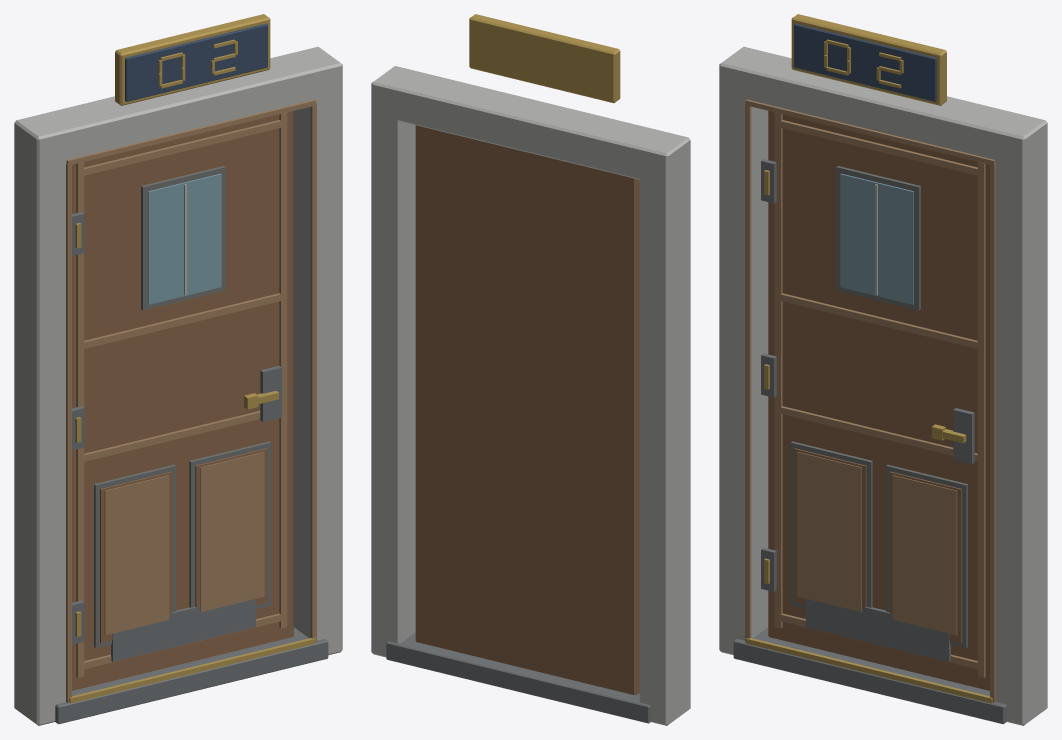
File: 0-20261016-1900-ev041-r07-floor4-previewroomdoor.fbx
3 renders of one model, left to right at view 1: azimuth 30°, elevation 25°; view 2: azimuth 150°, elevation 25°; view 3: azimuth 330°, elevation 25°, orthographic. The views are drawn at different scales.
Visible parts, largest first — view 1: SW_Leasing_PreviewRoomDoor; view 2: SW_Leasing_PreviewRoomDoor; view 3: SW_Leasing_PreviewRoomDoor.
Boxes of the visible parts, bbox=[...] form: SW_Leasing_PreviewRoomDoor: bbox=[14, 14, 342, 725]; SW_Leasing_PreviewRoomDoor: bbox=[371, 14, 690, 725]; SW_Leasing_PreviewRoomDoor: bbox=[719, 14, 1047, 725].
Bounding box in the file's own units: 122 × 251 × 23.6.
